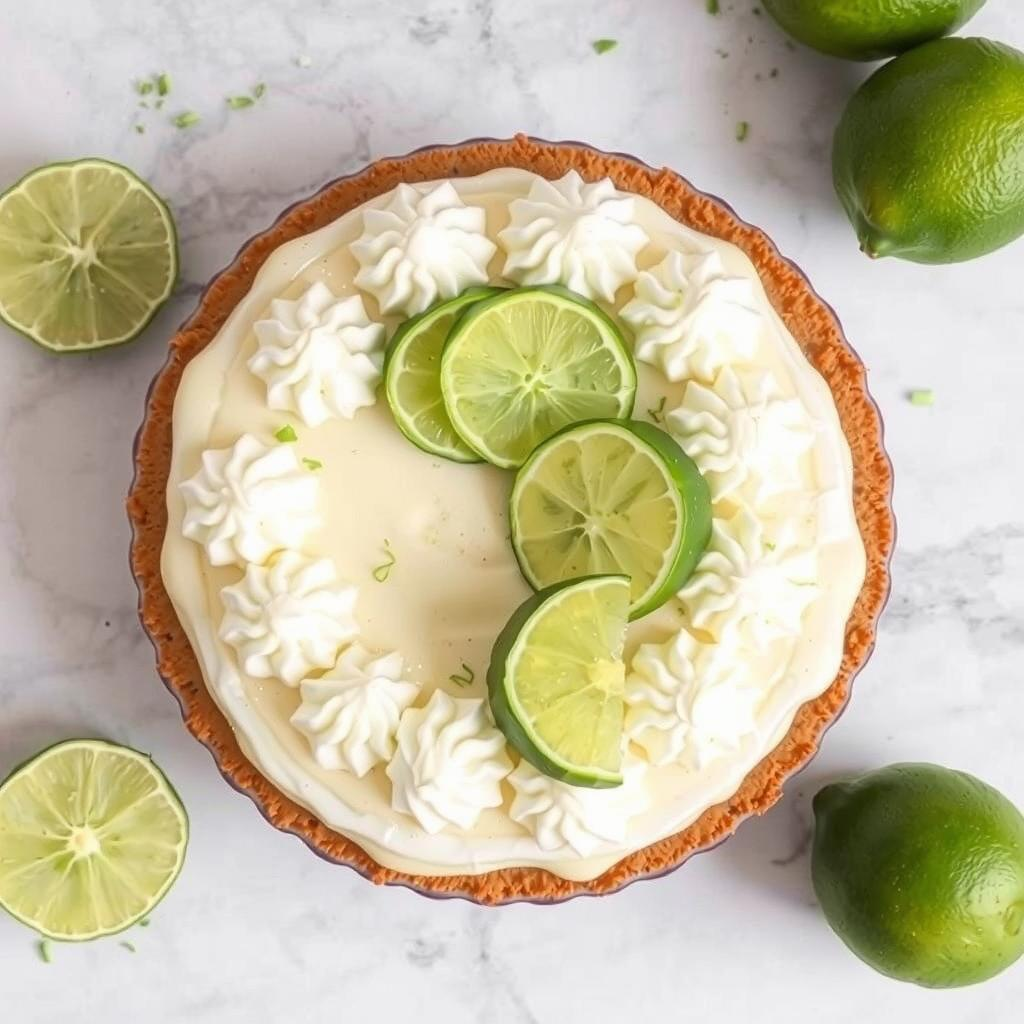pie: (124, 133, 904, 923)
